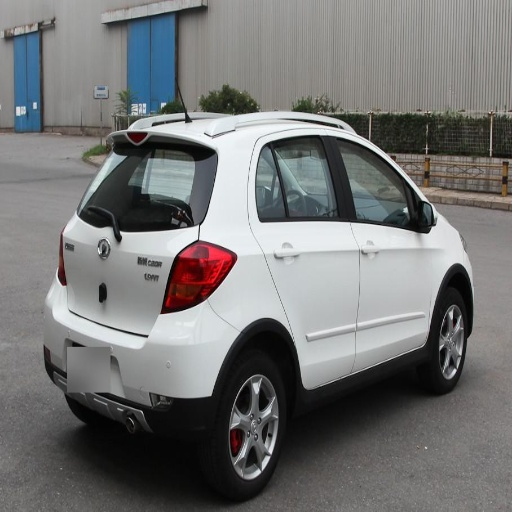back_bumper: (44, 284, 239, 437)
back_right_door: (254, 129, 358, 387)
tailgate: (75, 249, 172, 332)
trunk: (59, 218, 192, 333)
